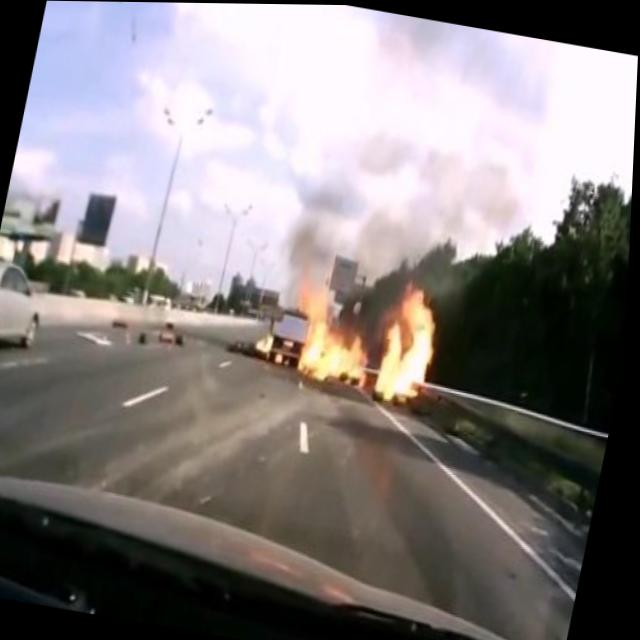fire: (284, 259, 454, 414), (254, 320, 281, 359)
